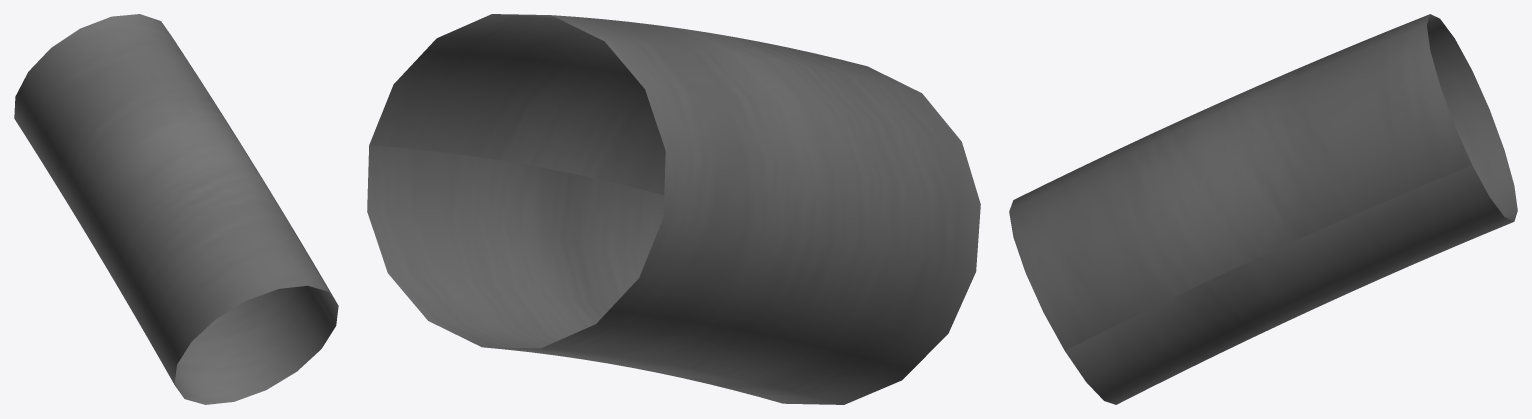
Rendered from mastarmcurve_6x2_c2.obj.
The picture shows the model from 3 angles, left to right: view 1: azimuth 30°, elevation 25°; view 2: azimuth 150°, elevation 25°; view 3: azimuth 270°, elevation 25°; orthographic projection. The views are drawn at different scales.
Visible parts, largest first — view 1: mastarm_6x2_c2; view 2: mastarm_6x2_c2; view 3: mastarm_6x2_c2.
Part boxes in pixels (x1,y1,x2,y2): mastarm_6x2_c2: [14, 14, 338, 404]; mastarm_6x2_c2: [367, 14, 980, 404]; mastarm_6x2_c2: [1009, 14, 1517, 404].
Size of the model in its own units: 0.5625 by 0.9972 by 1.25.
